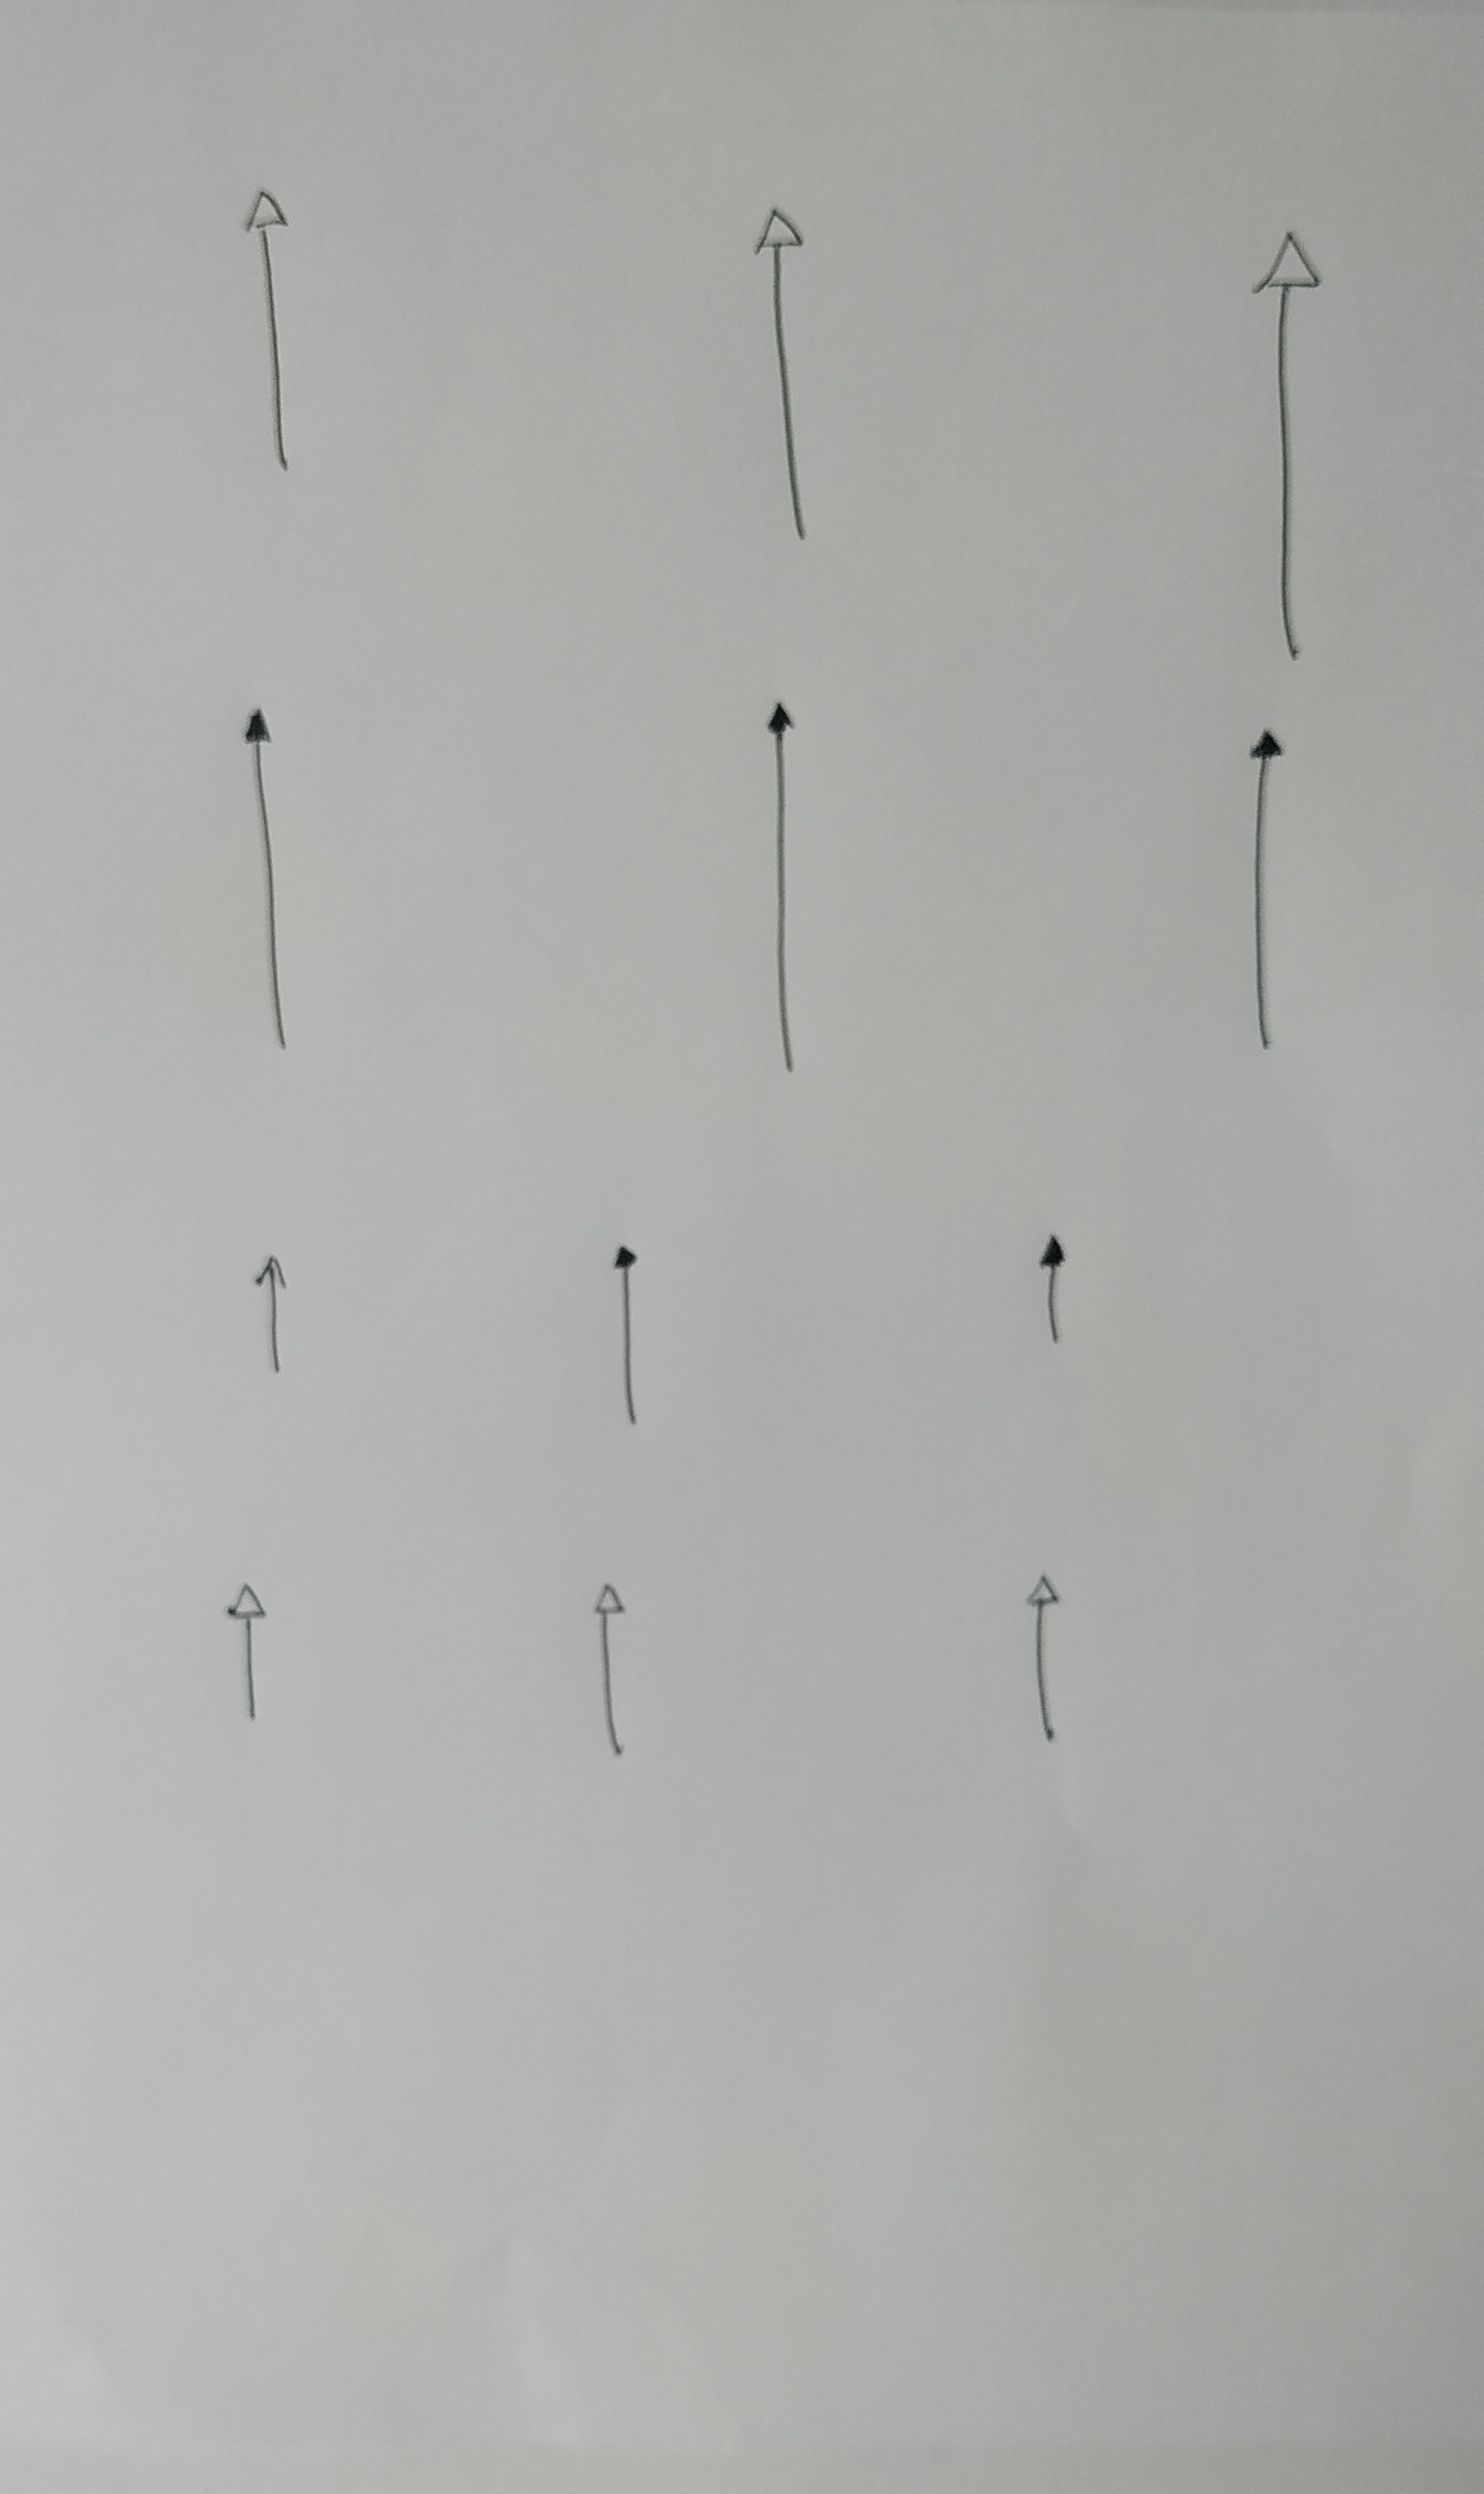arrow_line_up: (1254, 223, 1325, 664), (749, 201, 821, 549), (758, 692, 811, 1086), (238, 703, 297, 1058), (238, 180, 307, 475), (1235, 726, 1290, 1060), (588, 1579, 634, 1770), (608, 1242, 652, 1434), (1023, 1567, 1069, 1750), (223, 1574, 276, 1733), (247, 1245, 297, 1376), (1032, 1224, 1079, 1348)
